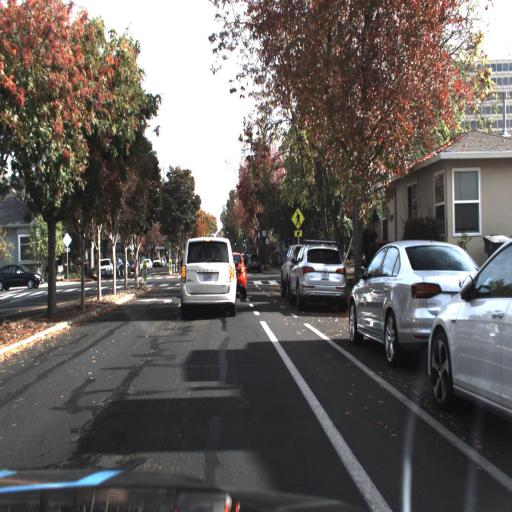car: (345, 236, 483, 364), (426, 236, 512, 433), (175, 233, 239, 325), (290, 241, 347, 317), (0, 259, 45, 293), (234, 249, 249, 300)
